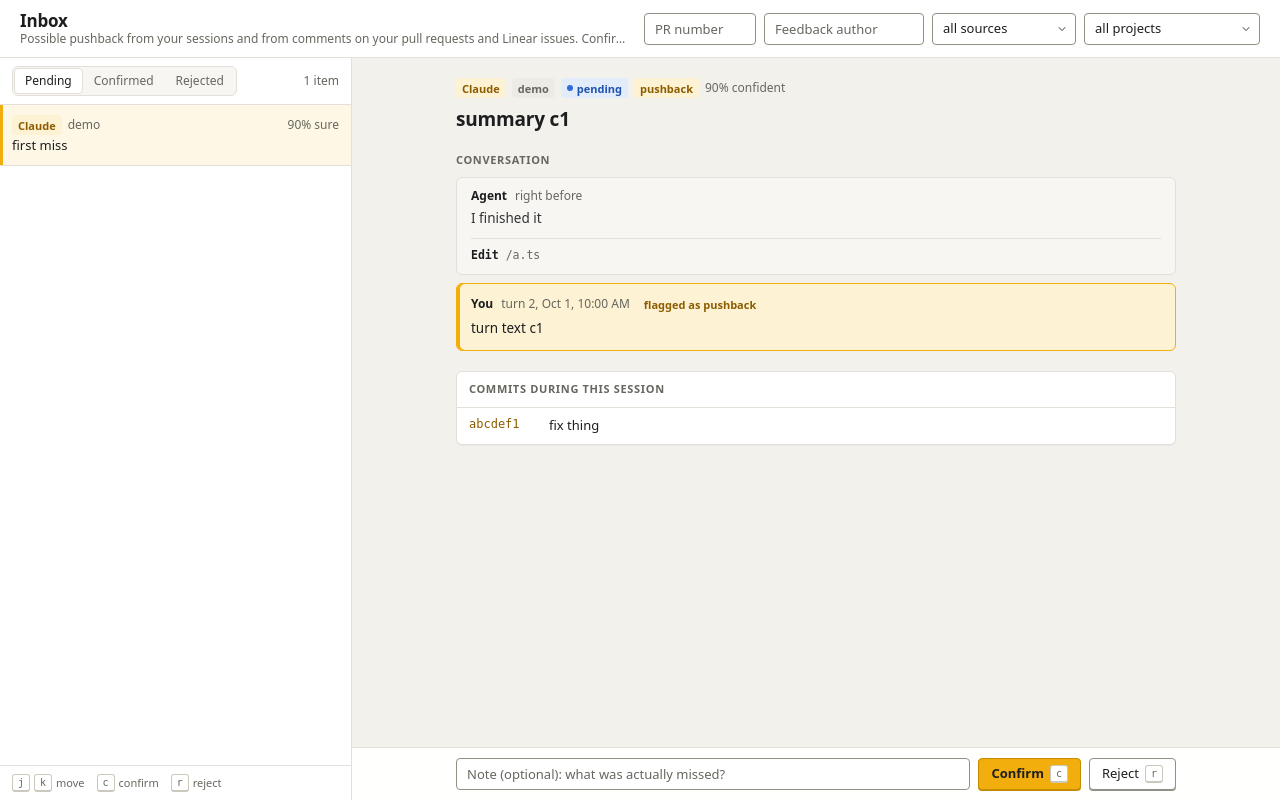
it: pending filtered to a project with nothing waiting shows that project's pipeline counts
This screenshot has width=1280, height=800.
Expected: the text "turn text c1" is shown, [471,319,544,337]
Select "other" in the dropdown named "project" at (1172, 29), box [1084,13,1260,45]
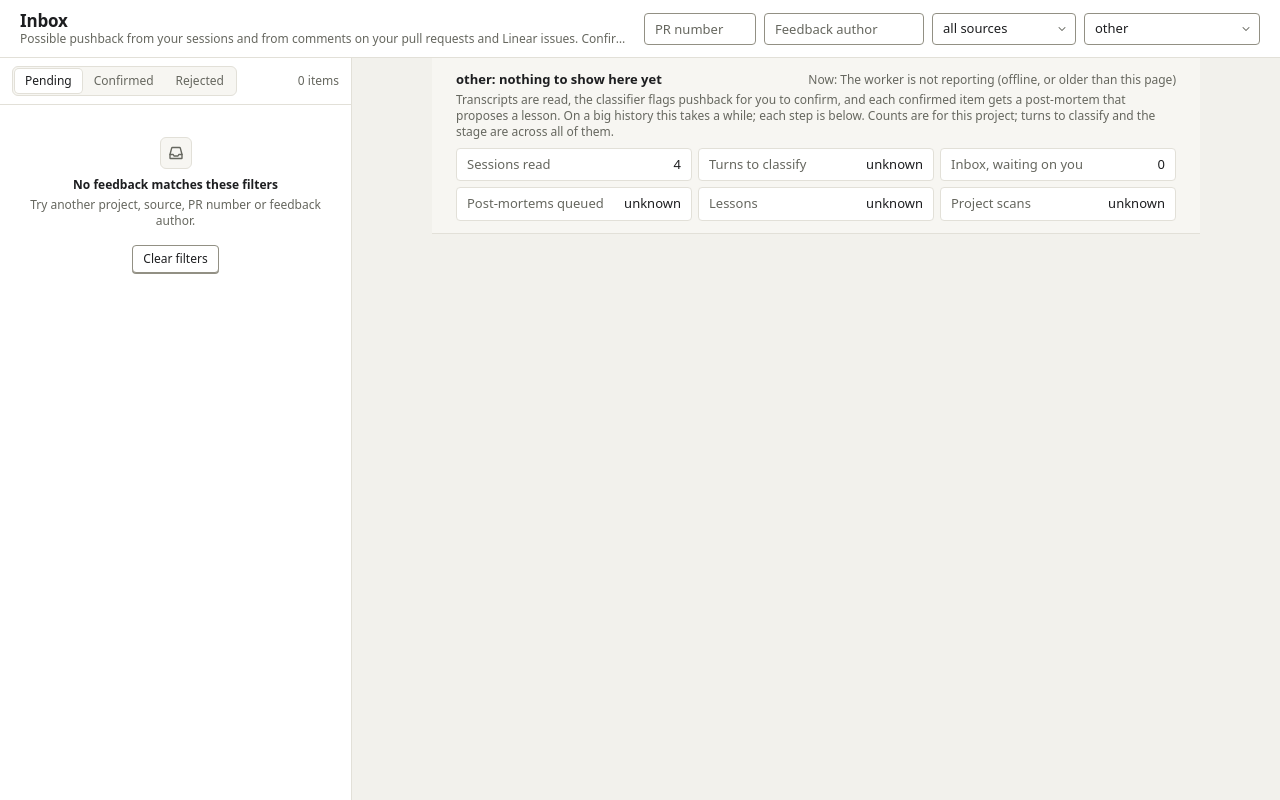
Result: the element named "pipeline" shows "other: nothing to show here yet" at [456,70,662,88]
